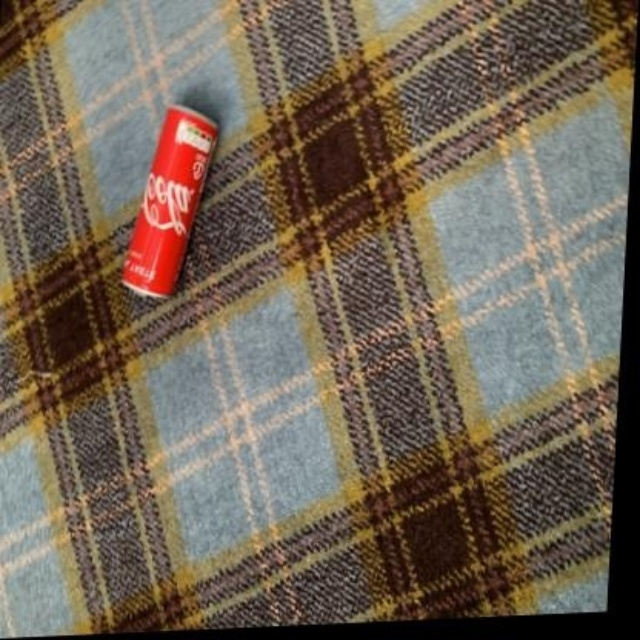trash: (123, 105, 217, 295)
